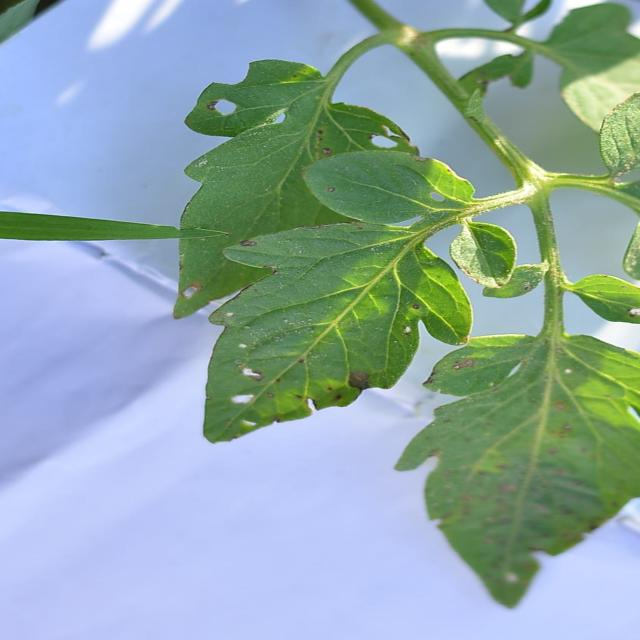infected: (442, 344, 637, 583), (178, 273, 388, 435), (207, 93, 418, 168), (420, 186, 456, 209)
